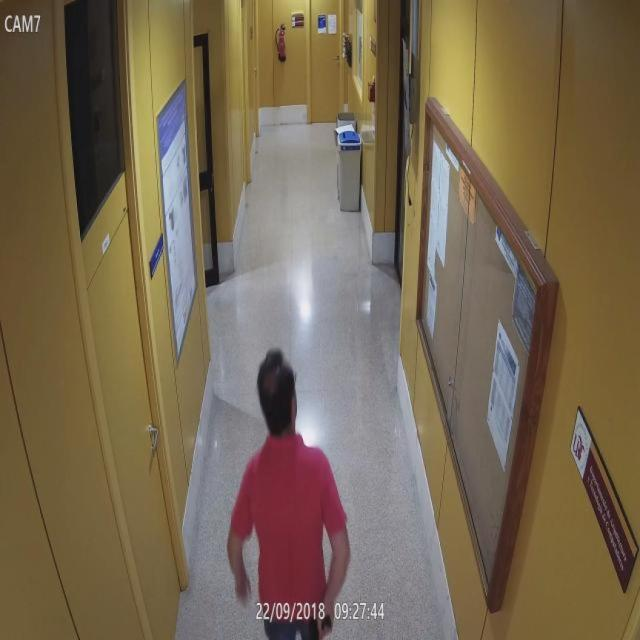pistol: (308, 606, 332, 640)
